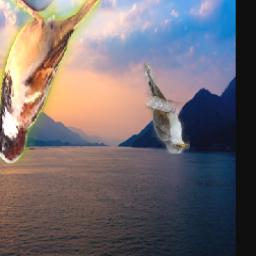Cuckoo: (143, 62, 189, 154)
Sparrow: (0, 0, 101, 163)
